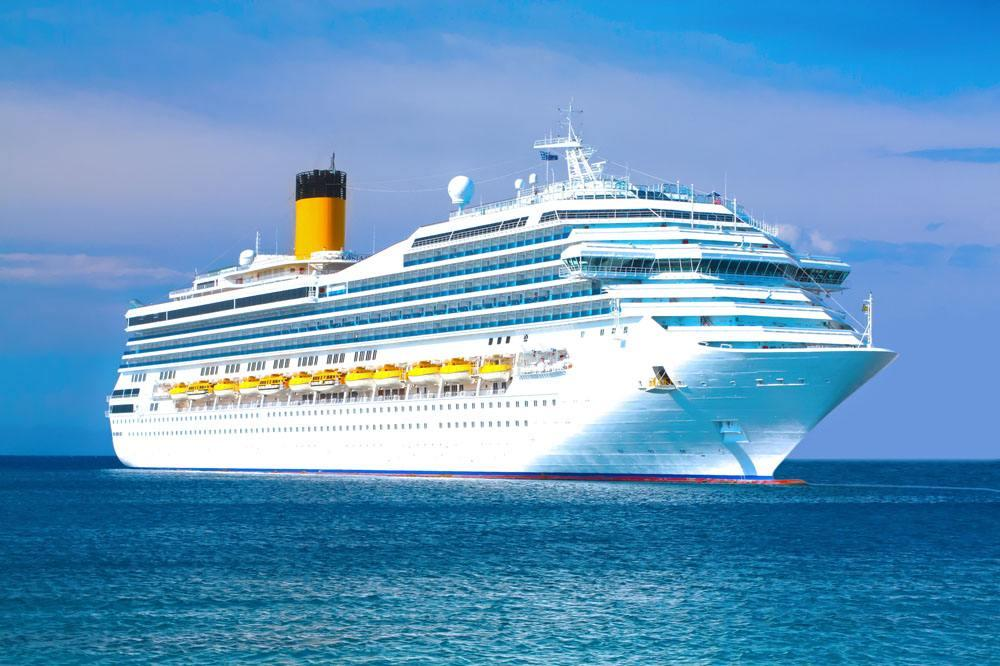youlun: (96, 119, 895, 483)
